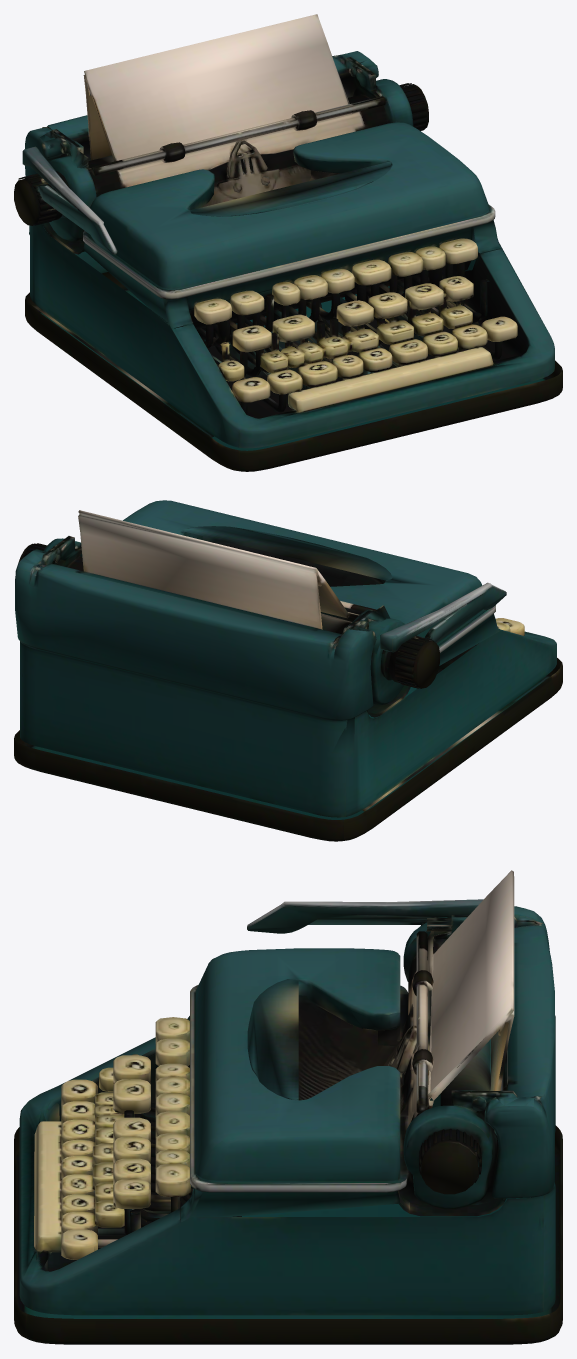
File: Electronics__a_vintage_typewriter_748ddda3_v1.cluster.glb
The picture shows the model from 3 angles, top to bottom: view 1: azimuth 30°, elevation 25°; view 2: azimuth 150°, elevation 25°; view 3: azimuth 270°, elevation 25°; orthographic projection. The views are drawn at different scales.
Visible parts, largest first — view 1: material; view 2: material; view 3: material.
Part boxes in pixels (left/top/right/bottom): material: left=14, top=14, right=562, bottom=471; material: left=14, top=500, right=562, bottom=841; material: left=14, top=870, right=562, bottom=1344.
Bounding box in the file's own units: 1.9 × 1.14 × 1.88.
1 material, 1 textured.
